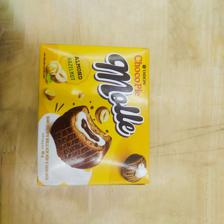Molle: (35, 37, 154, 187)
